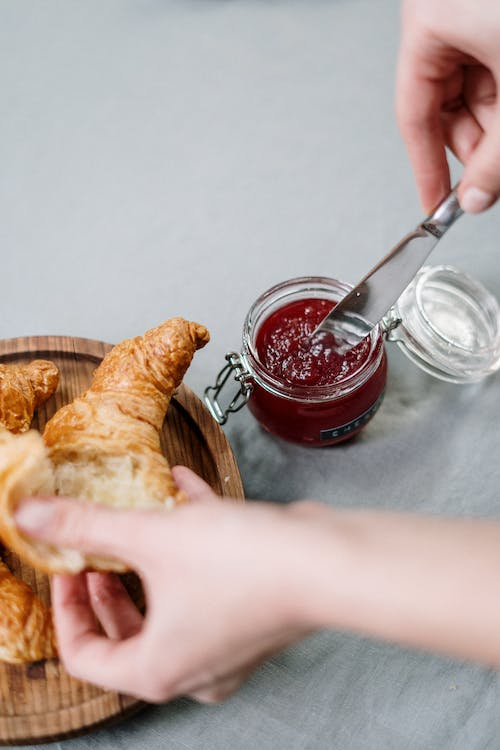knife: (307, 178, 464, 350)
